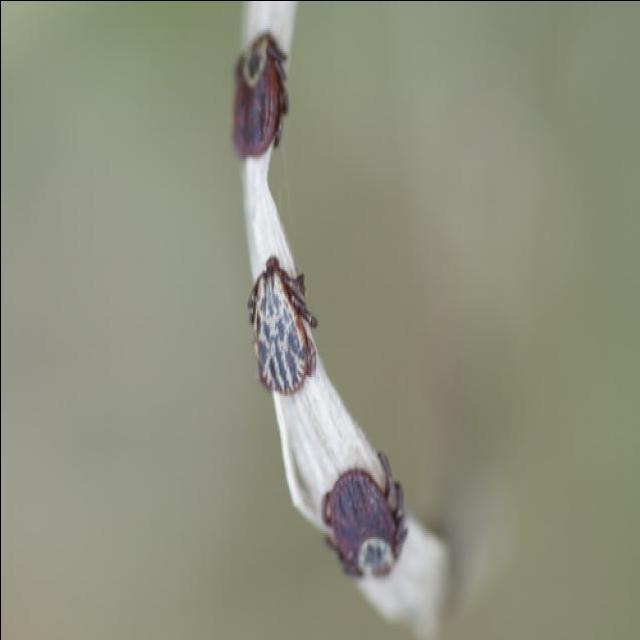Dermacentor Reticulatus-F: (319, 449, 410, 580), (230, 29, 289, 158)
Dermacentor Reticulatus-M: (247, 253, 316, 393)
